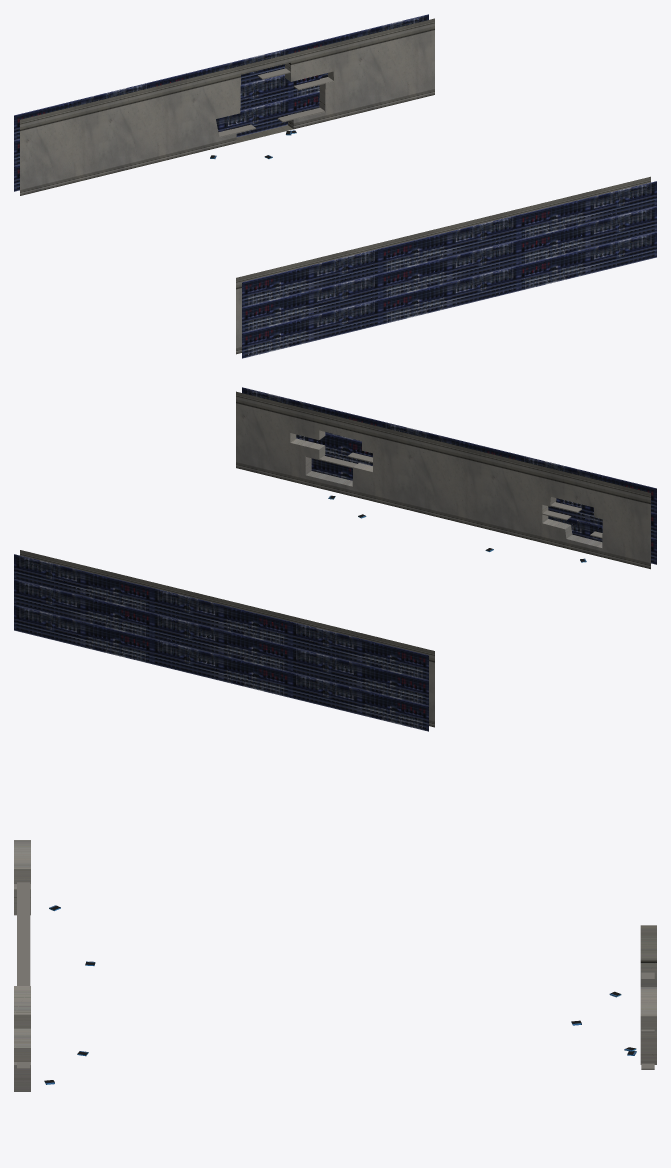
Rendered from Cor1_bldg_library_wall_dest.fbx.
3 renders of one model, top to bottom at view 1: azimuth 30°, elevation 25°; view 2: azimuth 150°, elevation 25°; view 3: azimuth 270°, elevation 25°, orthographic. The views are drawn at different scales.
Parts seen in each view (by area): view 1: Main_library_wall_dest1, polymsh1227; view 2: Main_library_wall_dest1, polymsh1227; view 3: polymsh1227.
Boxes of the visible parts, x1,y1,x2,y2 form: Main_library_wall_dest1: (14,14,656,358); polymsh1227: (20,18,650,354); Main_library_wall_dest1: (14,387,656,731); polymsh1227: (20,391,650,727); polymsh1227: (14,840,656,1091).
Bounding box in the file's own units: 39.74 × 7 × 37.81.
